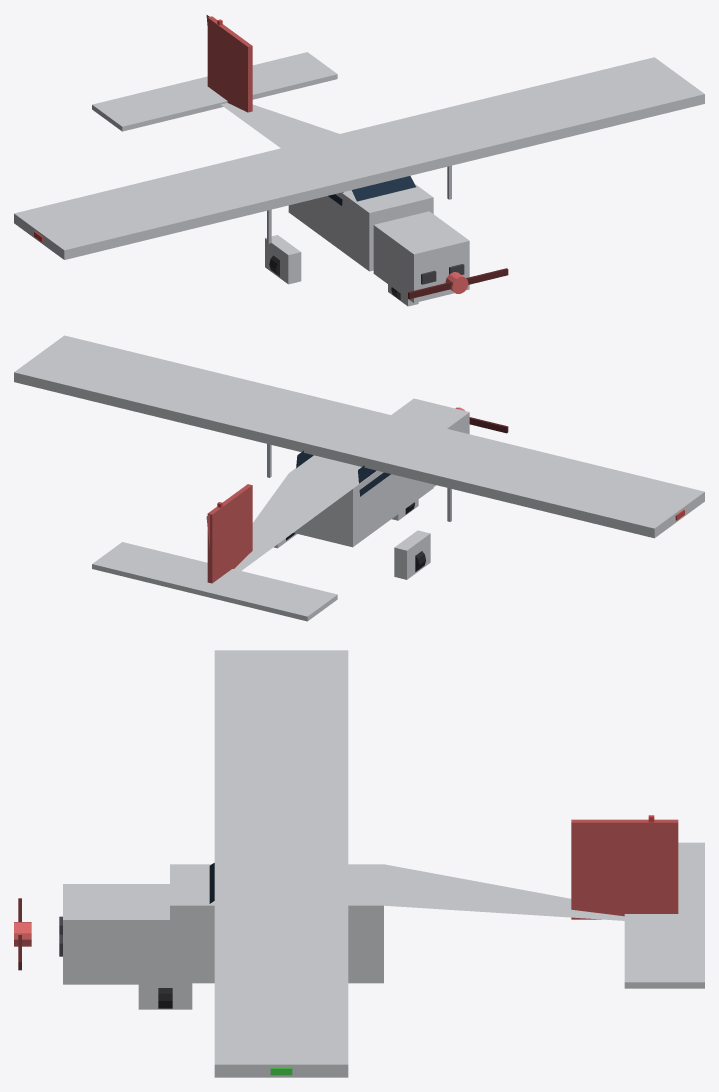
File: skyhawk_c172_lod0.glb
The picture shows the model from 3 angles, top to bottom: view 1: azimuth 30°, elevation 25°; view 2: azimuth 150°, elevation 25°; view 3: azimuth 270°, elevation 25°; orthographic projection. The views are drawn at different scales.
Visible parts, largest first — view 1: Airframe, Propeller, Cabin_Glass; view 2: Airframe, Cabin_Glass; view 3: Airframe.
Part boxes in pixels (bbox=[...]): Airframe: bbox=[14, 15, 704, 306]; Propeller: bbox=[408, 268, 508, 299]; Cabin_Glass: bbox=[328, 176, 415, 205]; Airframe: bbox=[14, 335, 704, 621]; Cabin_Glass: bbox=[296, 450, 390, 496]; Airframe: bbox=[59, 650, 704, 1077].
Bounding box in the file's own units: 11.04 × 2.39 × 7.75.
